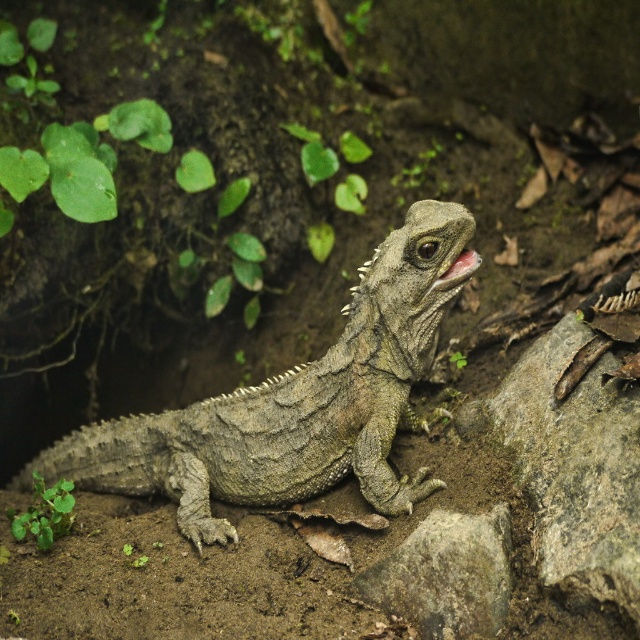Lizard: (38, 198, 494, 589)
